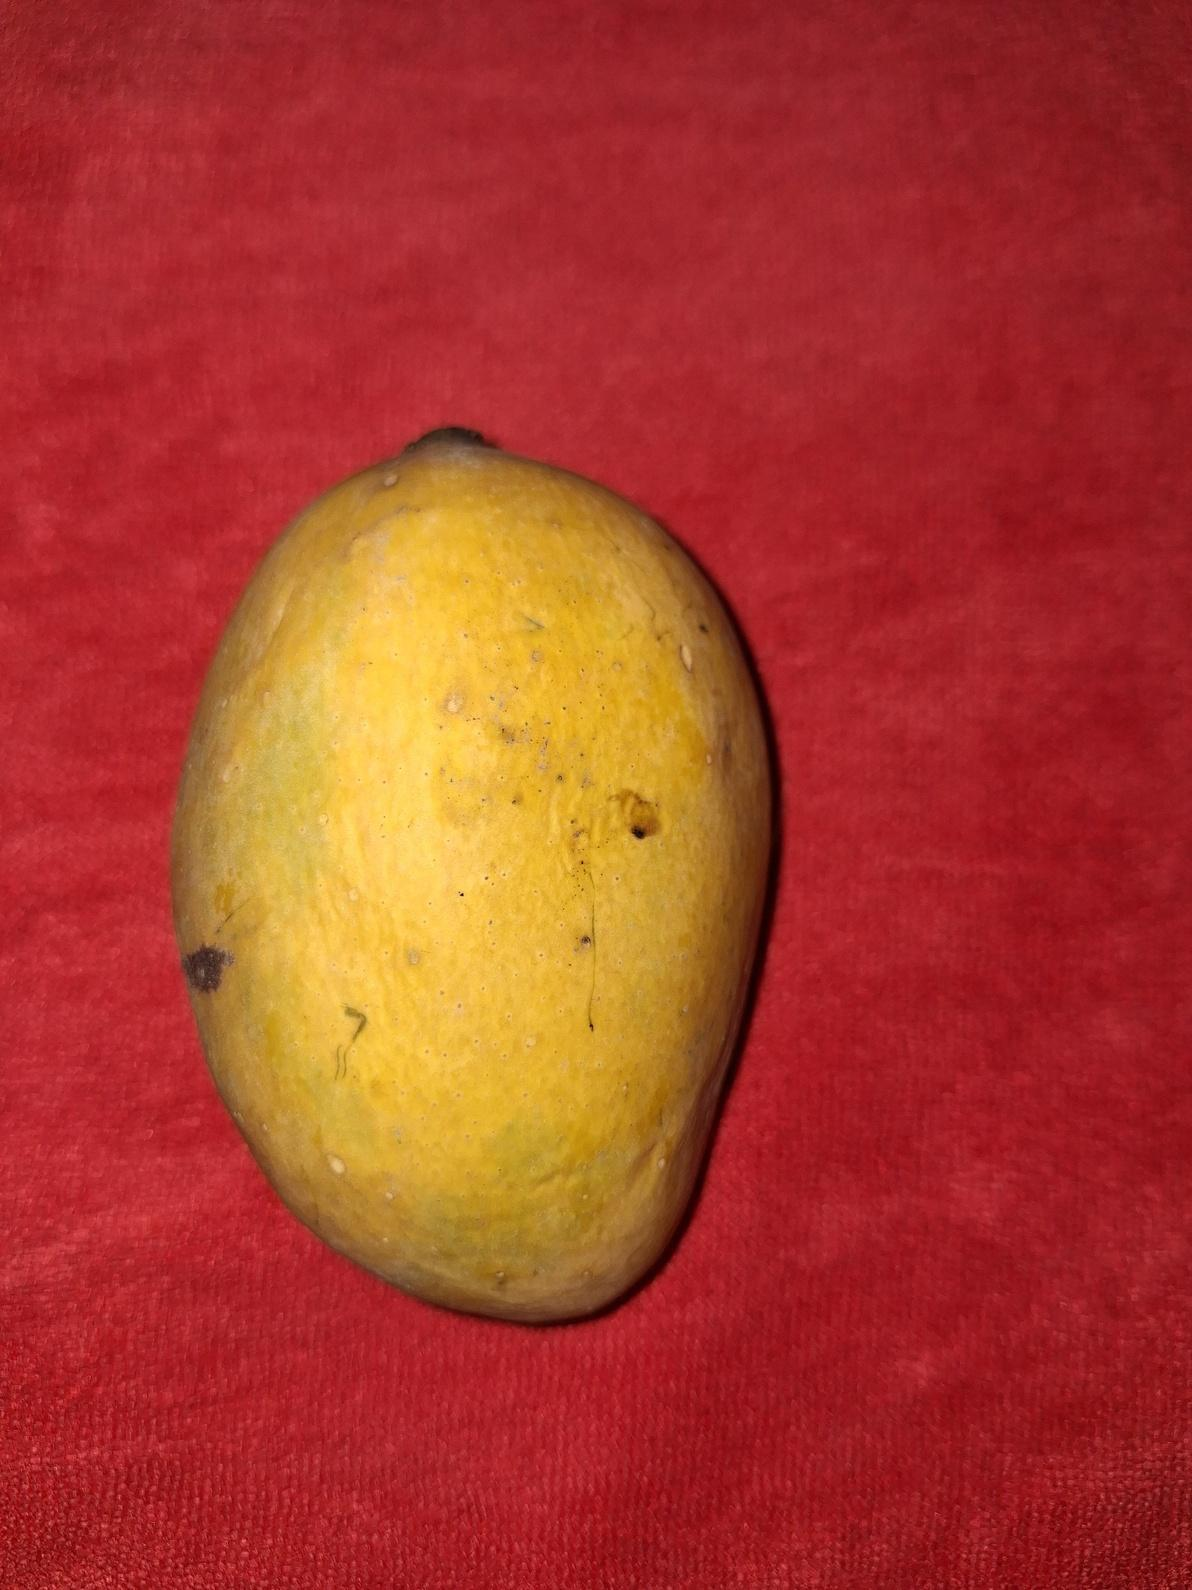mango: (168, 423, 774, 1325)
